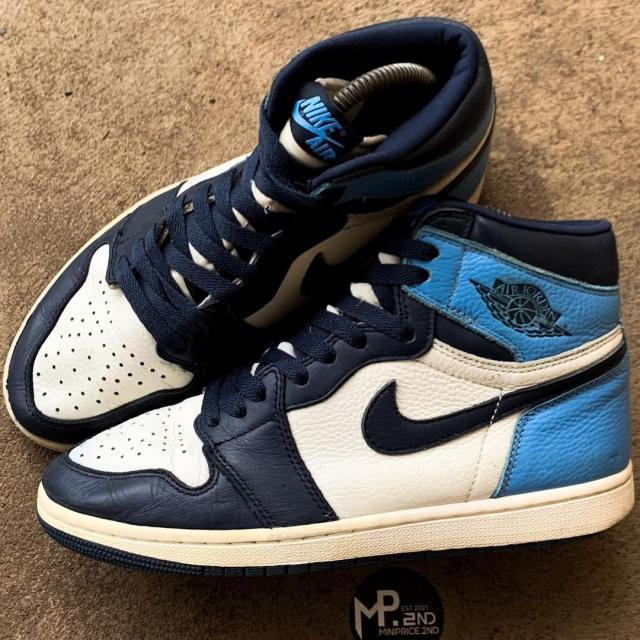nike original jordan 1: (28, 198, 640, 575), (3, 35, 514, 458)
